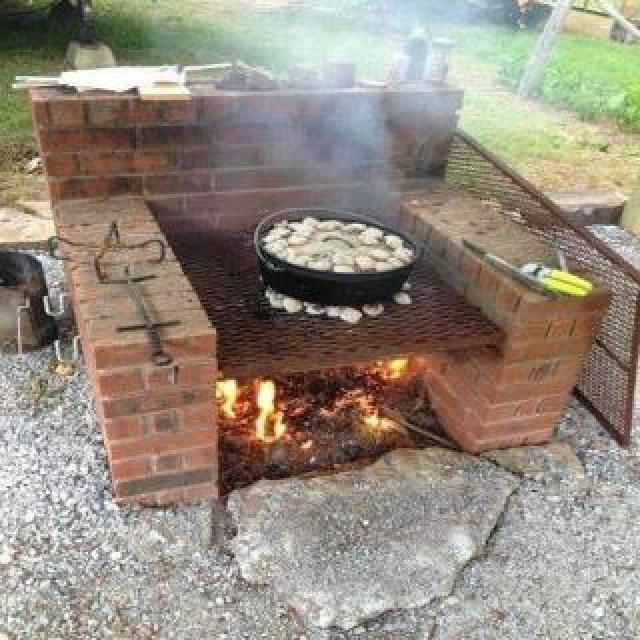Fire: (174, 350, 422, 458)
Smoke: (211, 2, 454, 230)
